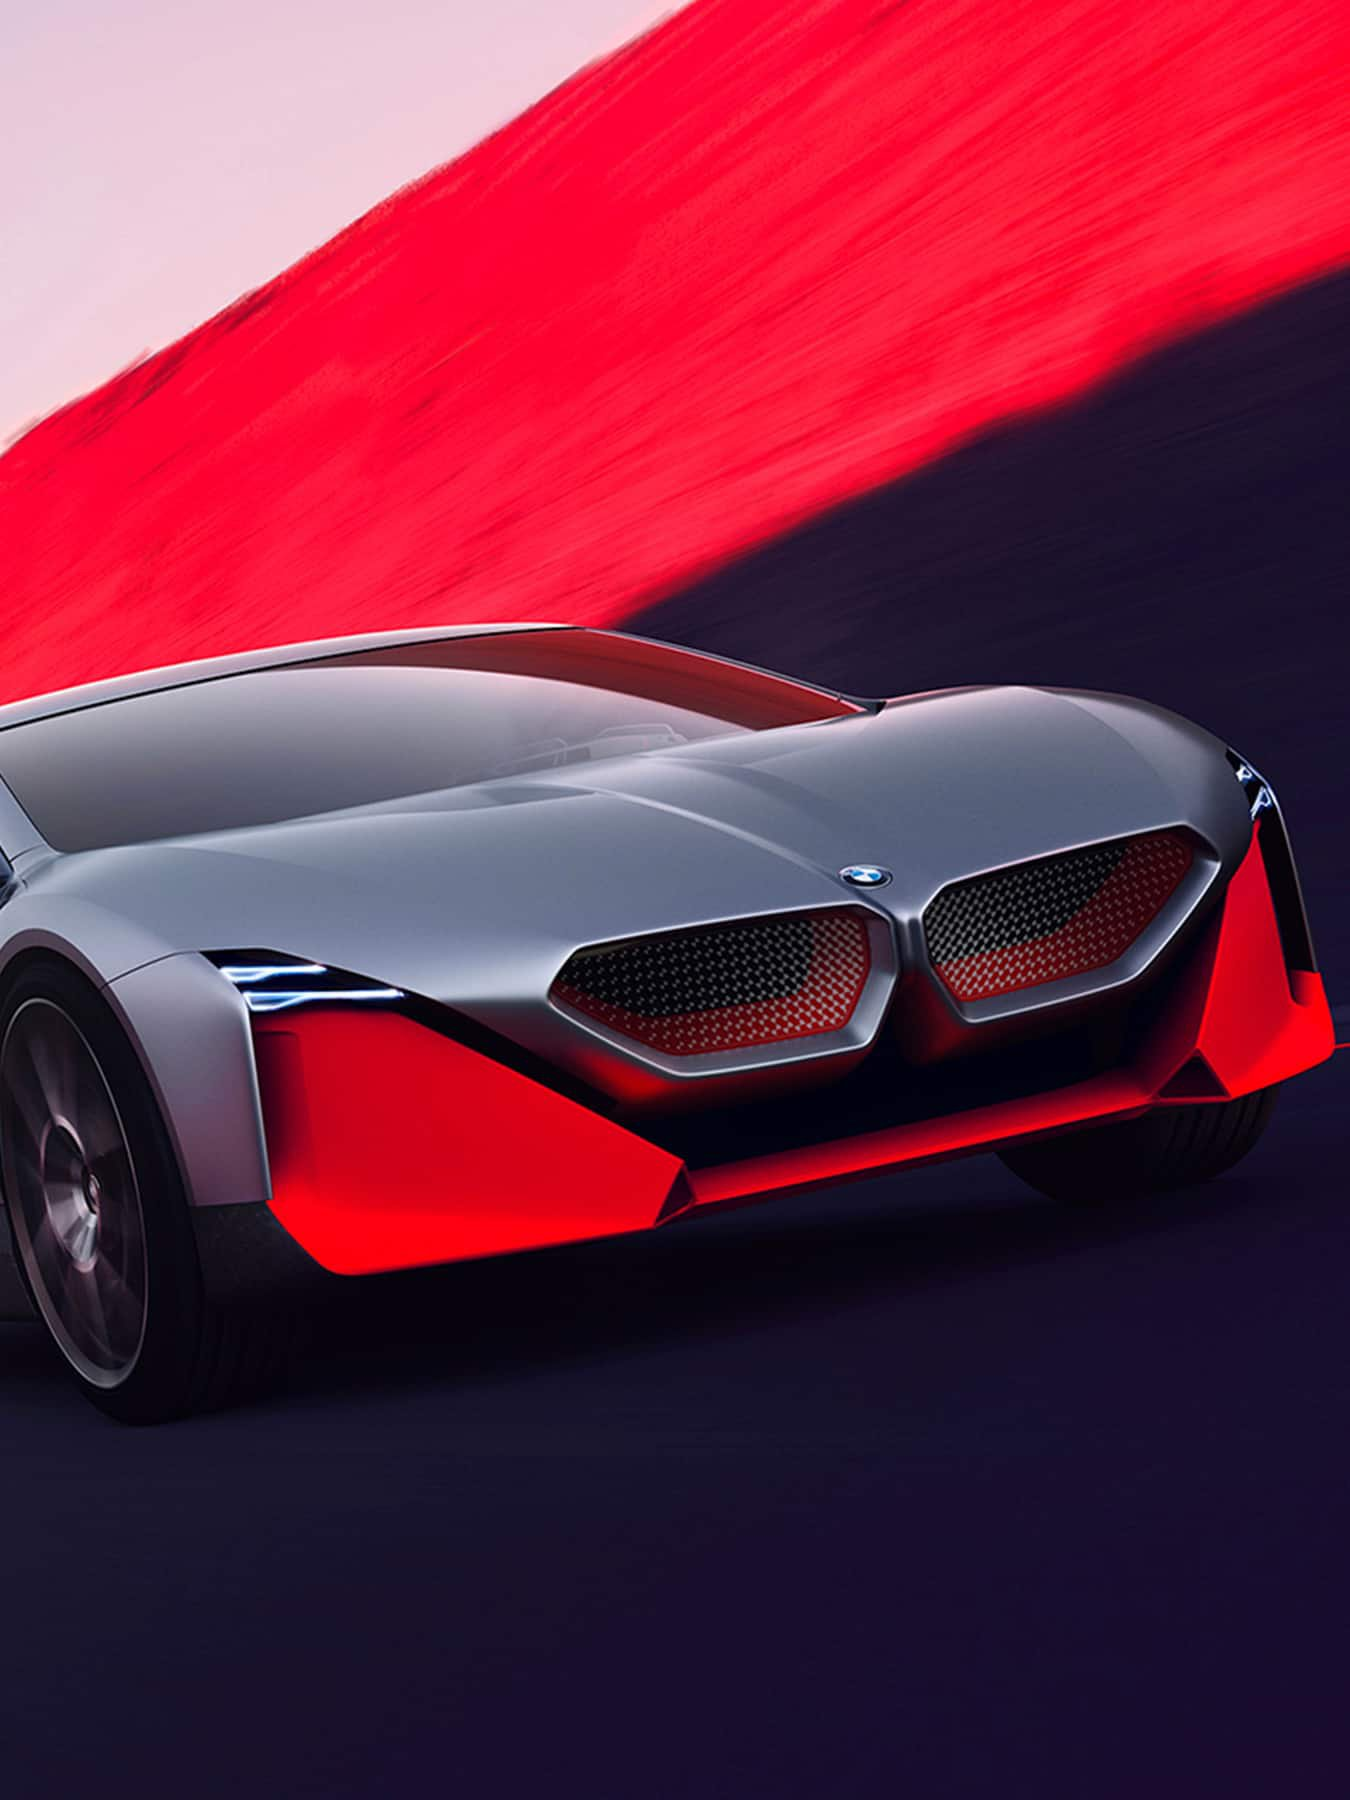car: (7, 625, 1346, 1351)
